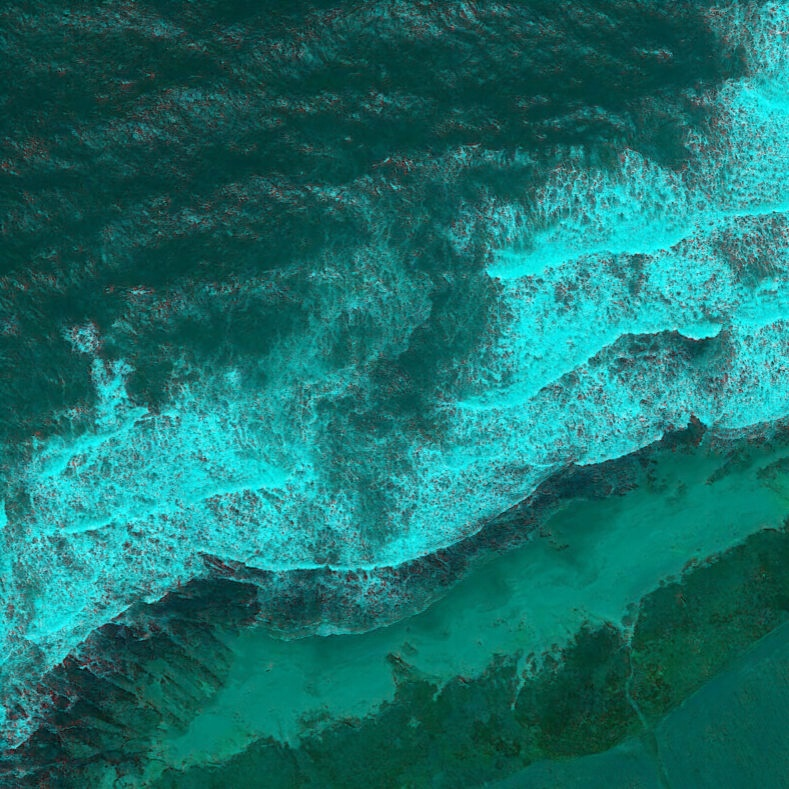rip_current: (242, 170, 536, 539)
